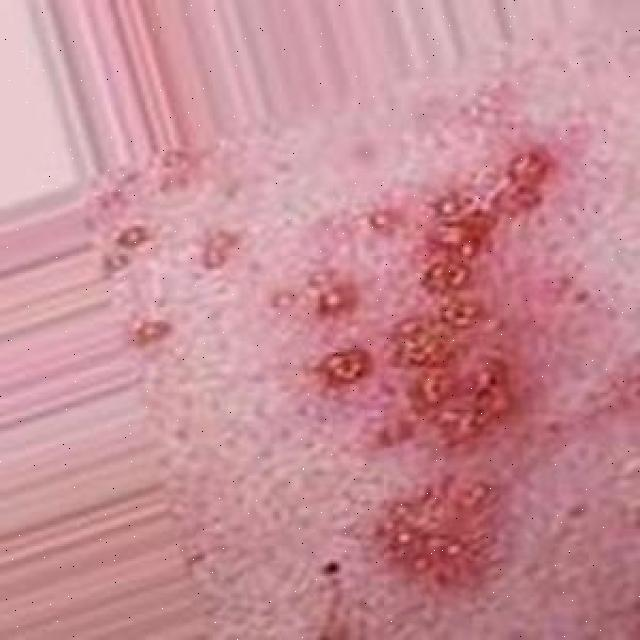Shingles: (311, 146, 553, 587)
